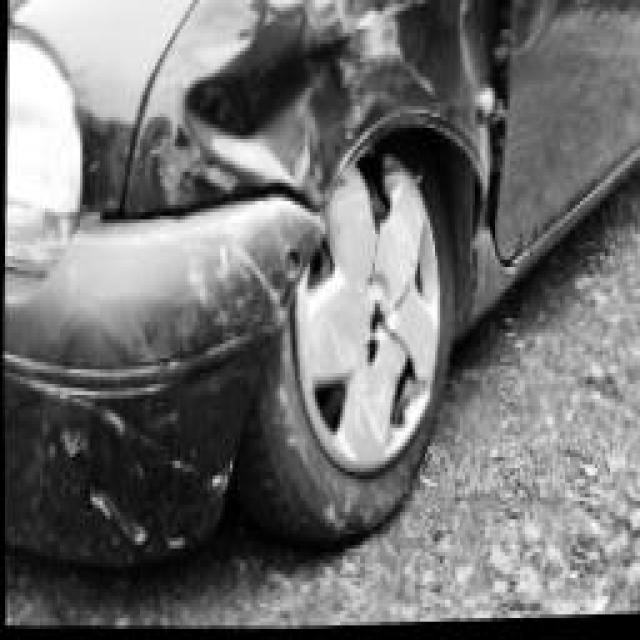Bumper: (2, 190, 313, 544)
Fender: (160, 0, 457, 203)
